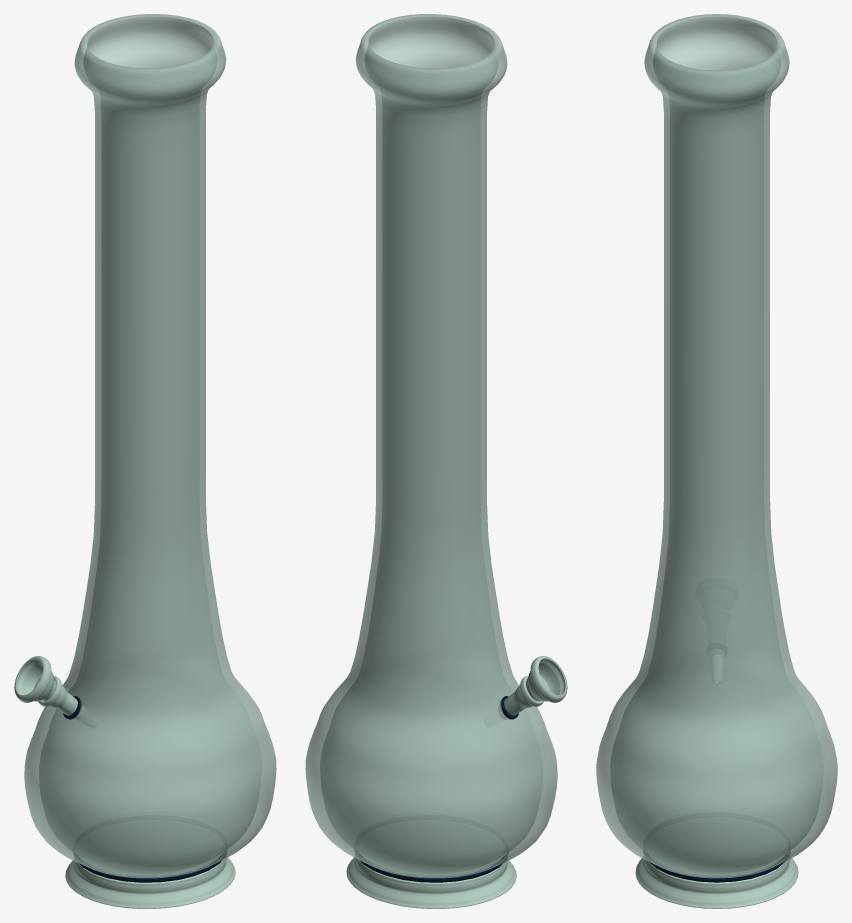
File: glass-bong.glb
3 renders of one model, left to right at view 1: azimuth 30°, elevation 25°; view 2: azimuth 150°, elevation 25°; view 3: azimuth 270°, elevation 25°, orthographic.
Parts seen in each view (by area): view 1: polySurface7; view 2: polySurface7; view 3: polySurface7.
Part boxes in pixels (x1,y1,x2,y2): polySurface7: [14, 14, 276, 908]; polySurface7: [305, 14, 567, 908]; polySurface7: [596, 14, 837, 908].
Bounding box in the file's own units: 8.77 × 28.73 × 7.57.
